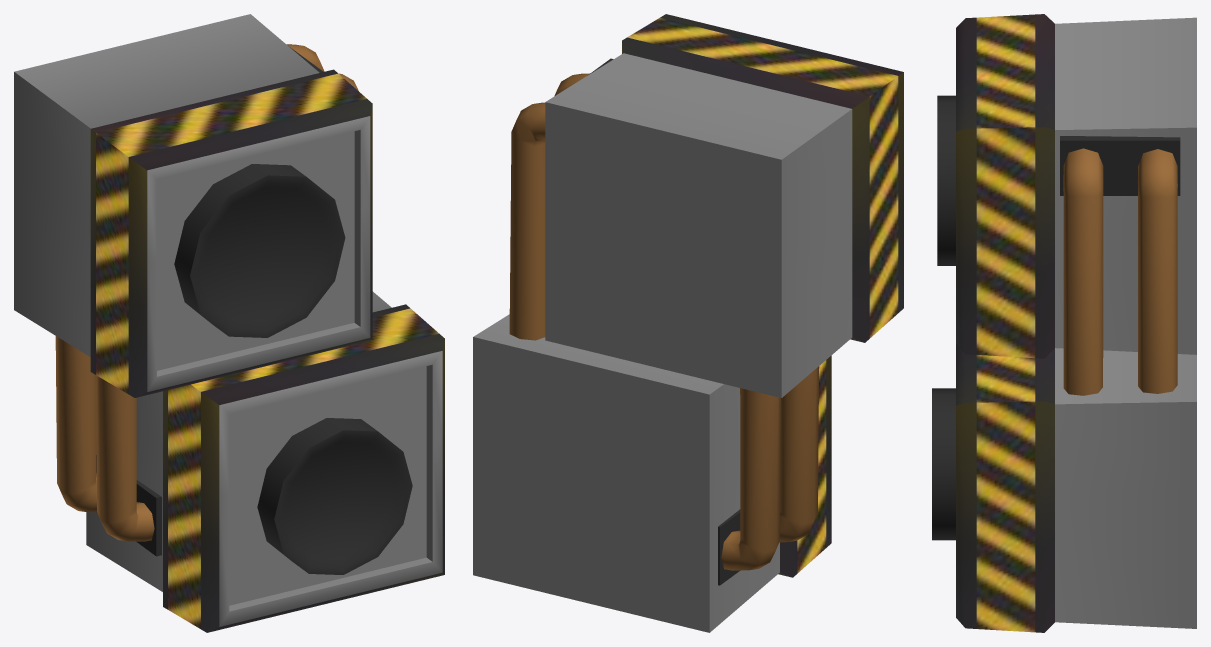
File: AC_Stacked.glb
The picture shows the model from 3 angles, left to right: view 1: azimuth 30°, elevation 25°; view 2: azimuth 150°, elevation 25°; view 3: azimuth 270°, elevation 25°; orthographic projection. The views are drawn at different scales.
Visible parts, largest first — view 1: AC_Stacked; view 2: AC_Stacked; view 3: AC_Stacked.
Part boxes in pixels (x1,y1,x2,y2): AC_Stacked: (14,14,444,632); AC_Stacked: (473,14,903,632); AC_Stacked: (932,14,1196,632).
Bounding box in the file's own units: 0.6701 × 1.01 × 0.5115.
4 materials, 1 textured.
